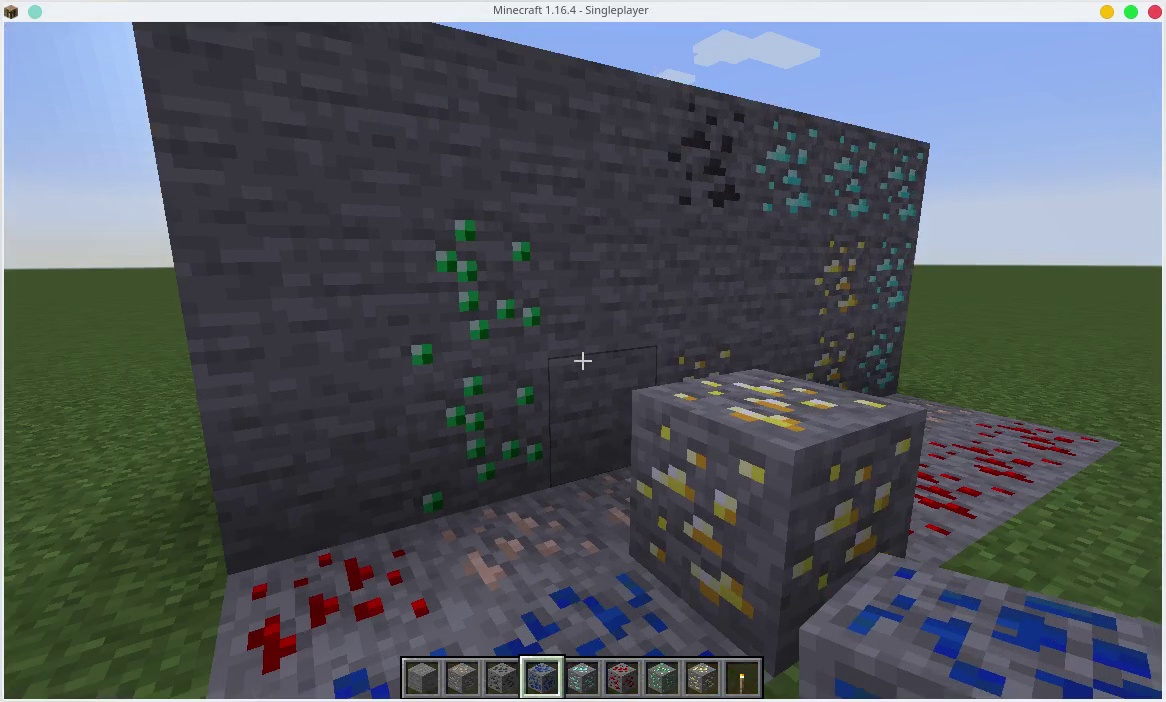gold: (633, 388, 898, 592), (813, 243, 869, 322), (806, 321, 858, 382), (669, 346, 741, 373), (687, 664, 717, 696)
